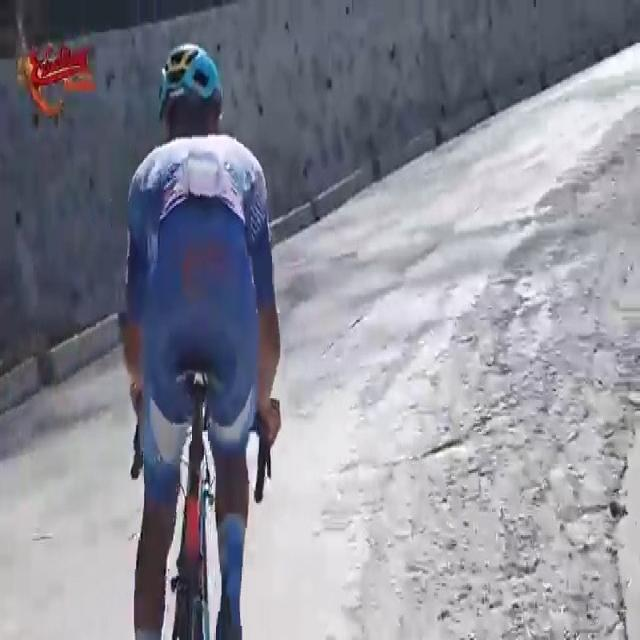bike: (125, 40, 282, 640)
